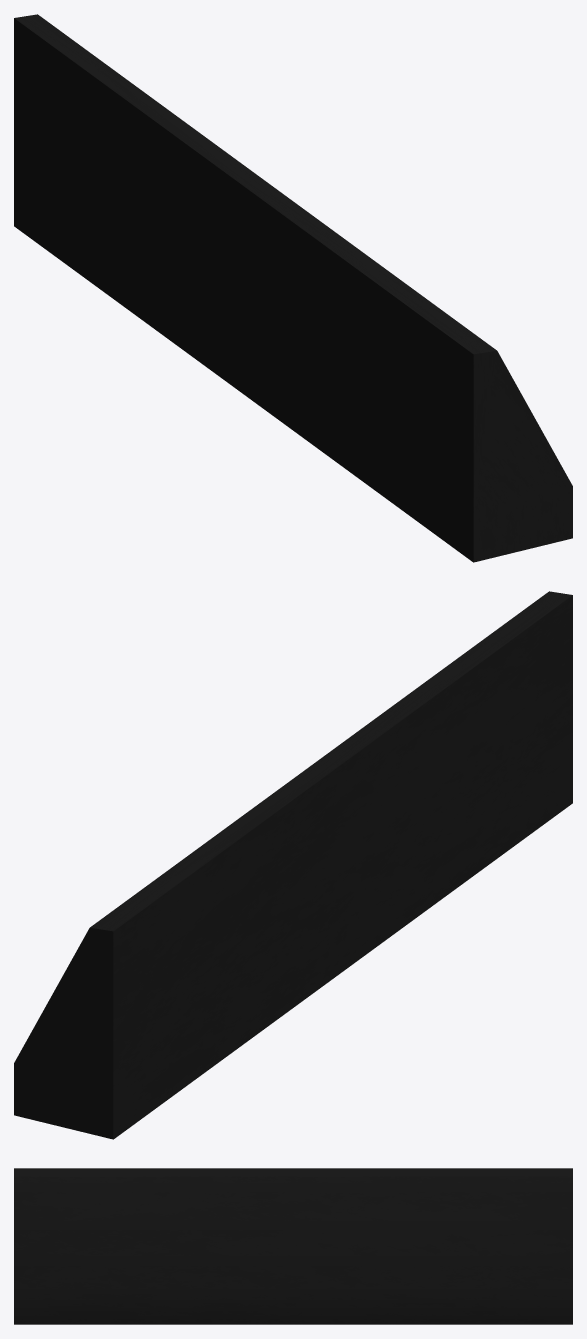
Rendered from Ad Banner.fbx.
3 renders of one model, top to bottom at view 1: azimuth 30°, elevation 25°; view 2: azimuth 150°, elevation 25°; view 3: azimuth 270°, elevation 25°, orthographic. The views are drawn at different scales.
Parts seen in each view (by area): view 1: Cube; view 2: Cube; view 3: Cube.
Part boxes in pixels (x1=…): Cube: x1=14, y1=14, x2=572, y2=562; Cube: x1=14, y1=591, x2=572, y2=1139; Cube: x1=14, y1=1168, x2=572, y2=1324.
Size of the model in its own units: 25 by 50 by 200.
1 material, 1 textured.
